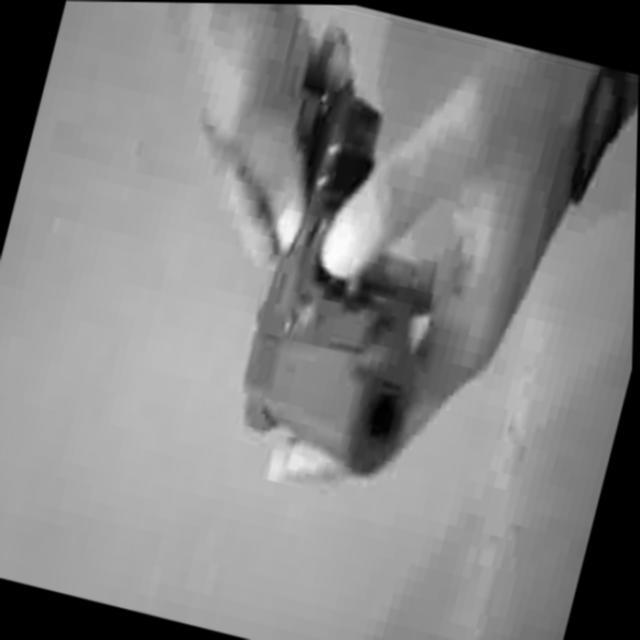weapon: (223, 76, 484, 489)
